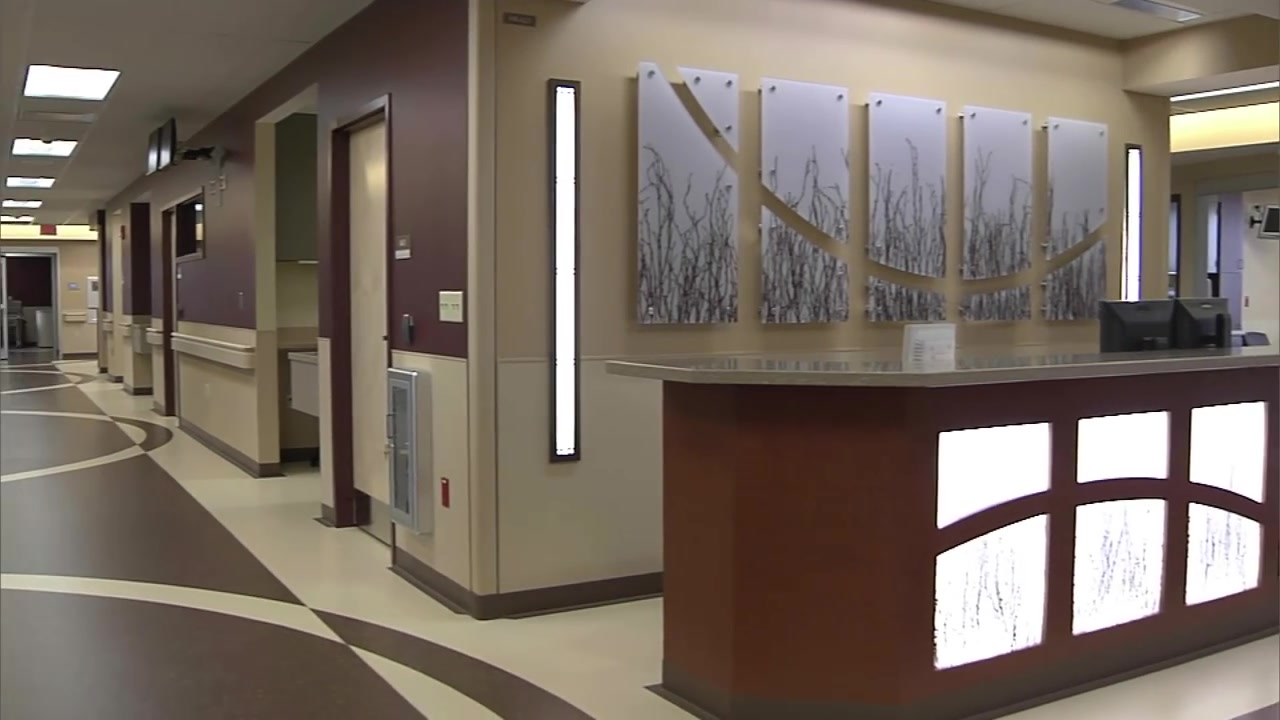TV: (145, 117, 177, 177), (1259, 205, 1280, 239)
computer: (1097, 299, 1175, 353), (1173, 297, 1232, 348), (903, 324, 960, 373)
counter: (595, 333, 1276, 709)
countertop: (603, 345, 1280, 388), (290, 347, 332, 361)
hallway_assist_bar: (170, 332, 255, 369), (146, 327, 163, 346), (63, 313, 88, 322), (119, 323, 134, 336), (102, 319, 114, 332)
handle: (386, 412, 395, 439)
light_switch: (438, 290, 465, 323)
